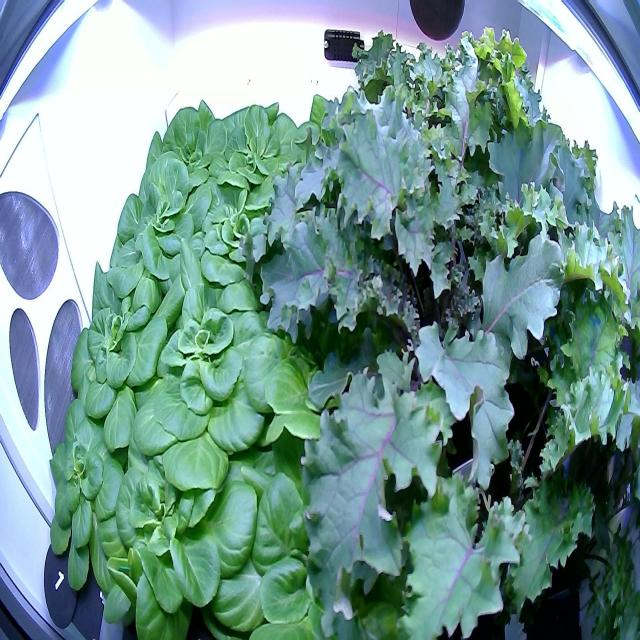young: (128, 264, 299, 498), (101, 411, 273, 639), (249, 423, 413, 640), (34, 393, 160, 601), (66, 246, 192, 452), (164, 178, 298, 317), (104, 147, 224, 300), (198, 85, 316, 234), (142, 90, 235, 198)
